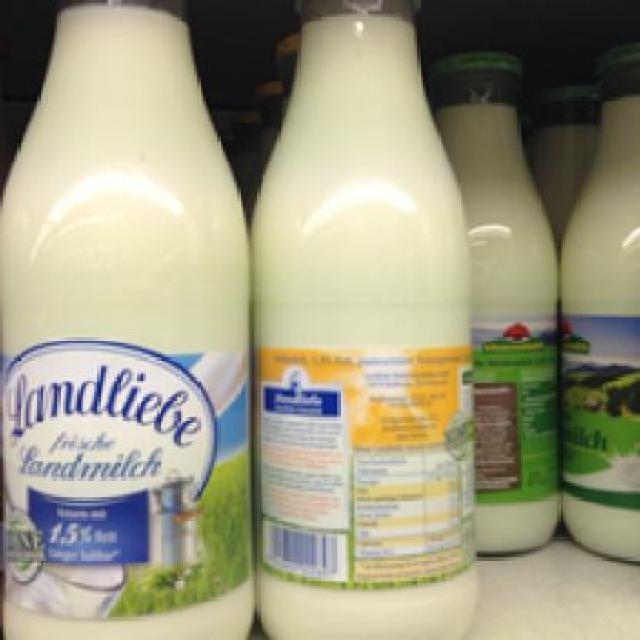Milk: (0, 0, 252, 635), (245, 0, 478, 637)
